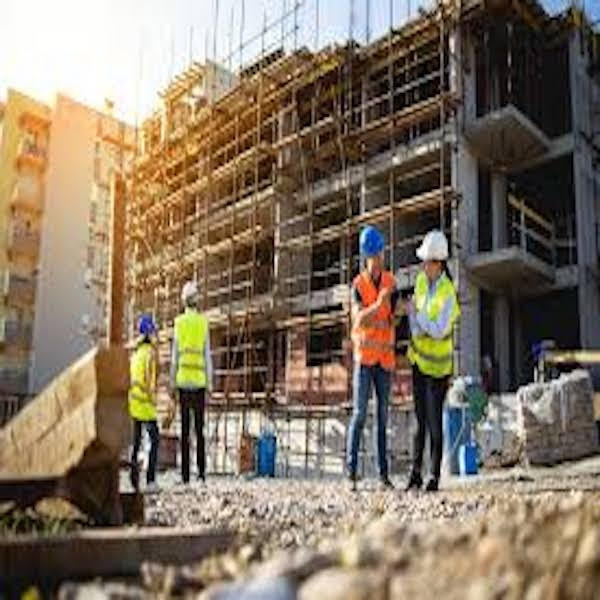helmet: (417, 228, 453, 264), (360, 222, 389, 256), (139, 312, 160, 338), (181, 276, 200, 302)
vest: (410, 268, 461, 368), (351, 270, 395, 371), (175, 311, 211, 397), (128, 341, 160, 428)
